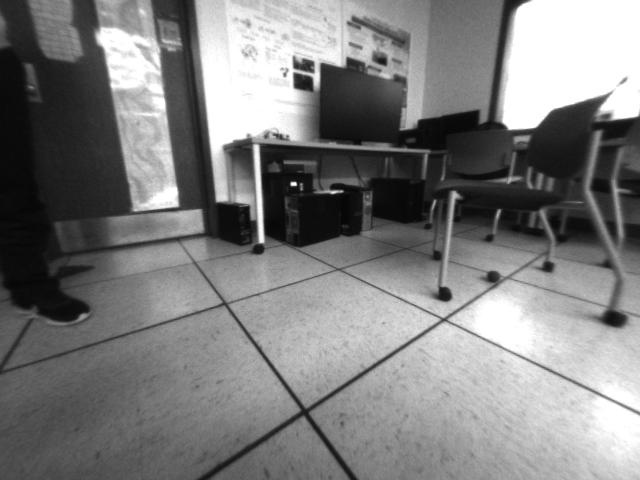dogtoy: (478, 263, 505, 288)
